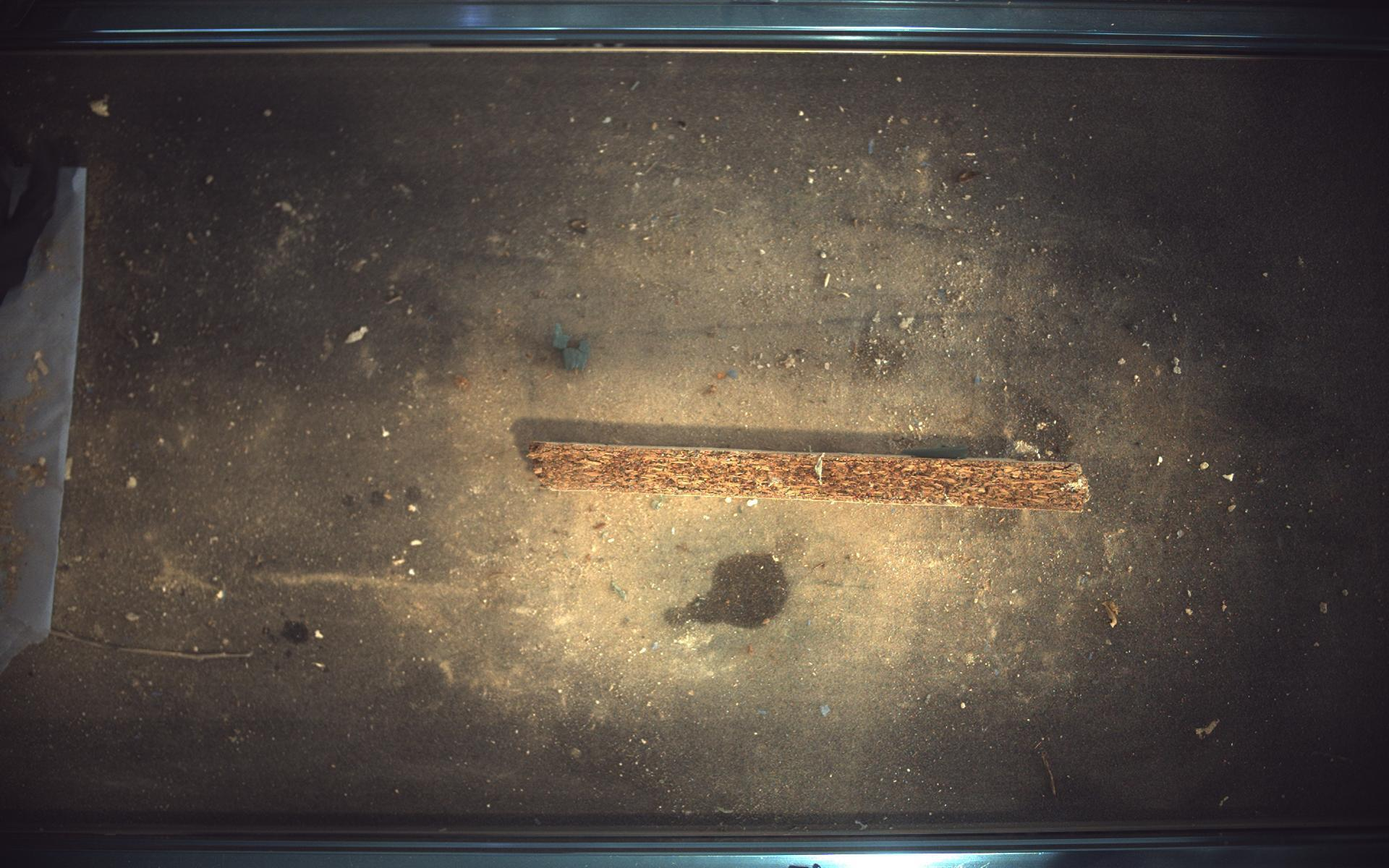wood: (530, 442, 1091, 512)
